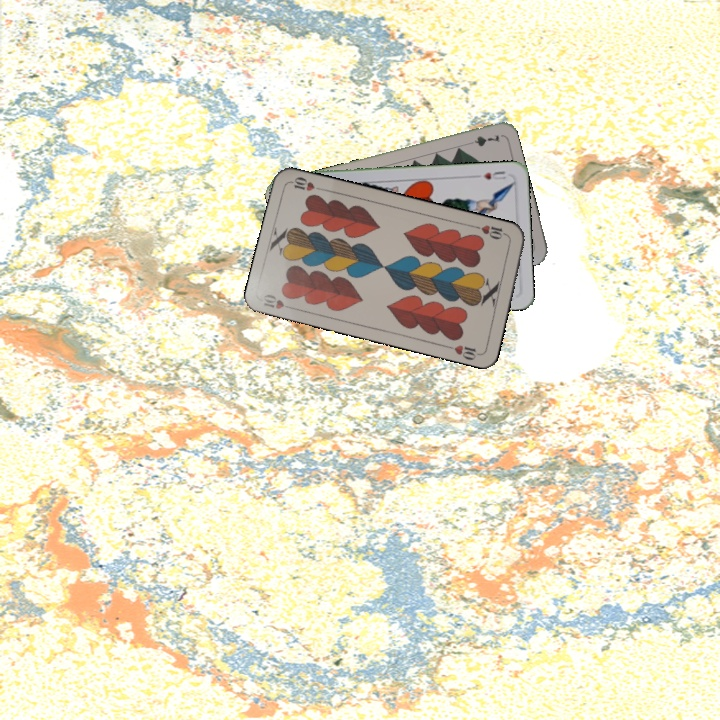G7: (462, 130, 503, 149)
H10: (259, 290, 298, 312), (471, 221, 511, 242)
HU: (472, 167, 508, 182)
